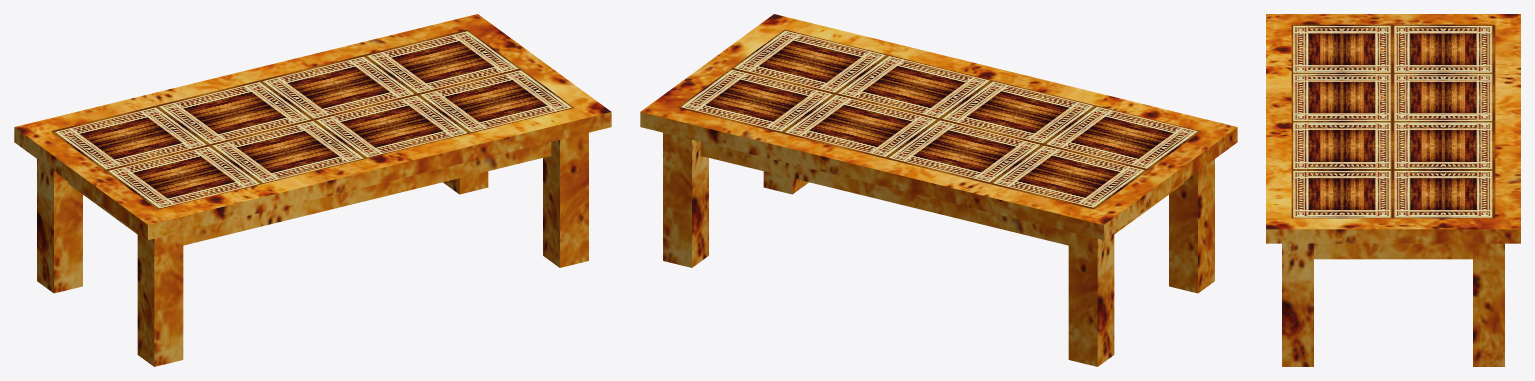
The model's file is CoffeeTableWithInlays.fbx.
3 views of the same model, side by side, from view 1: azimuth 30°, elevation 25°; view 2: azimuth 150°, elevation 25°; view 3: azimuth 270°, elevation 25° (orthographic). The views are drawn at different scales.
Visible parts, largest first — view 1: default; view 2: default; view 3: default.
Boxes of the visible parts, bbox=[...] form: default: bbox=[14, 14, 611, 366]; default: bbox=[640, 14, 1237, 366]; default: bbox=[1266, 14, 1520, 366].
Size of the model in its own units: 376 by 118 by 188.
